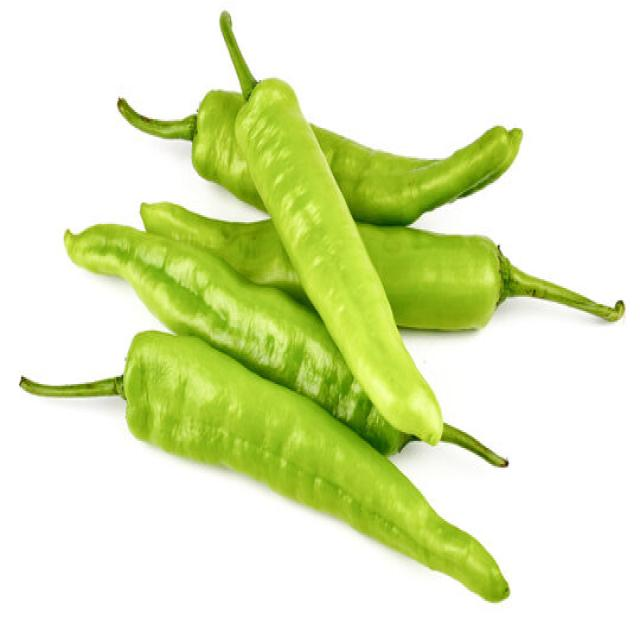Bell Pepper: (116, 20, 624, 334)
Chilli: (217, 9, 443, 450), (62, 220, 429, 457), (138, 198, 624, 332), (116, 90, 524, 228), (308, 119, 523, 226)
Coriander Leaves: (19, 327, 511, 603)
